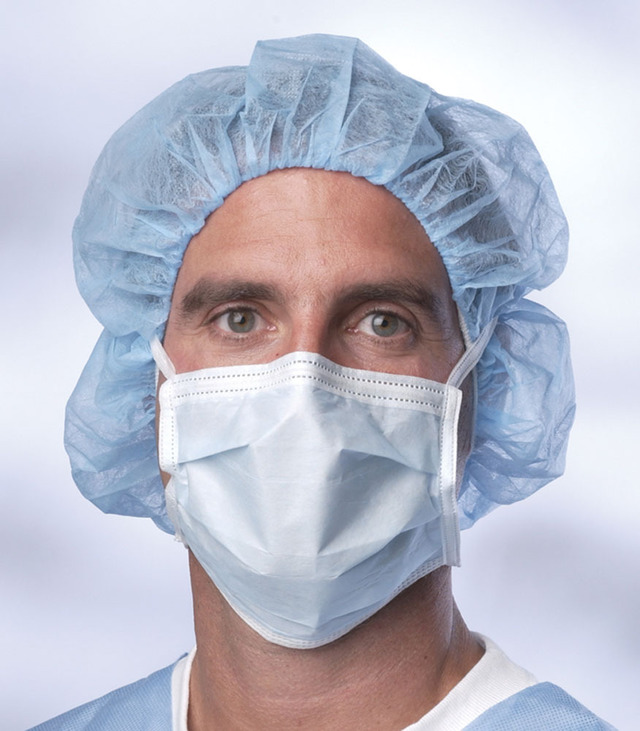mask: (164, 374, 455, 605)
